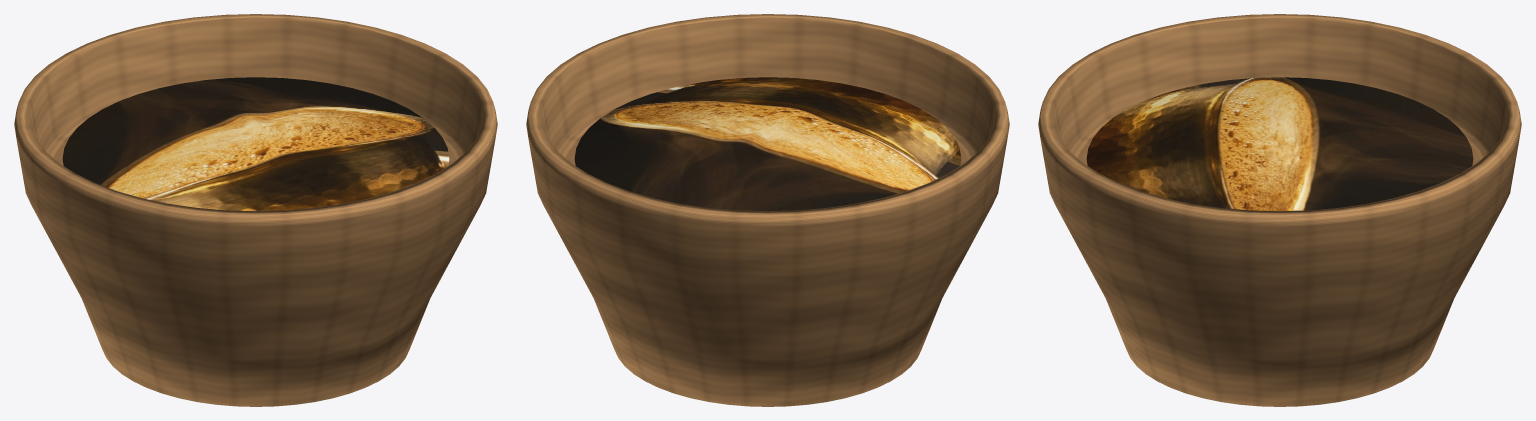
The model's file is filter-kaapi.glb.
3 views of the same model, side by side, from view 1: azimuth 30°, elevation 25°; view 2: azimuth 150°, elevation 25°; view 3: azimuth 270°, elevation 25° (orthographic).
Parts seen in each view (by area): view 1: BambooBowl, FoodMound; view 2: BambooBowl, FoodMound; view 3: BambooBowl, FoodMound.
Part boxes in pixels (box(x1,y1,x2,y2)): BambooBowl: box(14, 14, 497, 406); FoodMound: box(62, 77, 449, 211); BambooBowl: box(526, 14, 1009, 406); FoodMound: box(574, 77, 961, 211); BambooBowl: box(1038, 14, 1521, 406); FoodMound: box(1086, 77, 1473, 211).
Bounding box in the file's own units: 0.12 × 0.064 × 0.12.
Materials: 2 (2 with a texture image).
